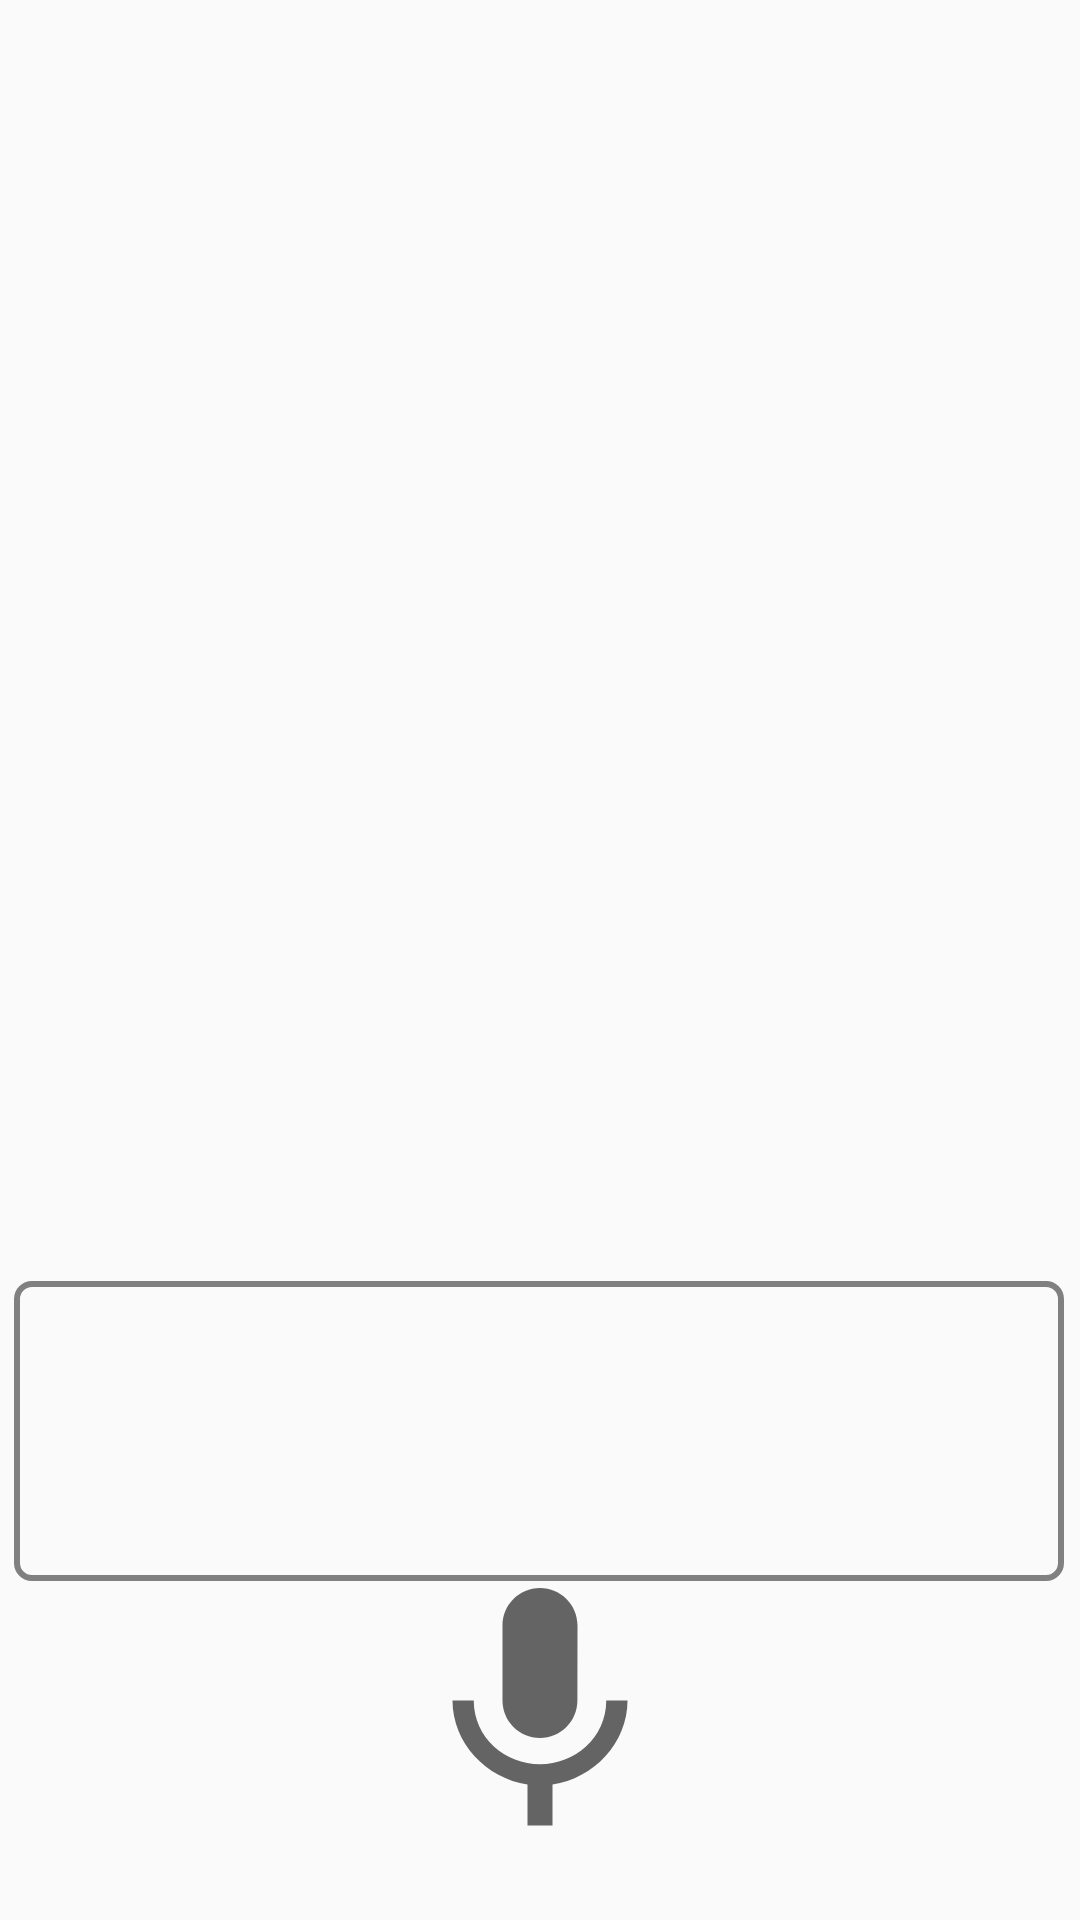

Icons on this 1080w x 1920h Android screen, each with its box as (x1, y1, x2, y2):
mic: (452, 1588, 628, 1826)
